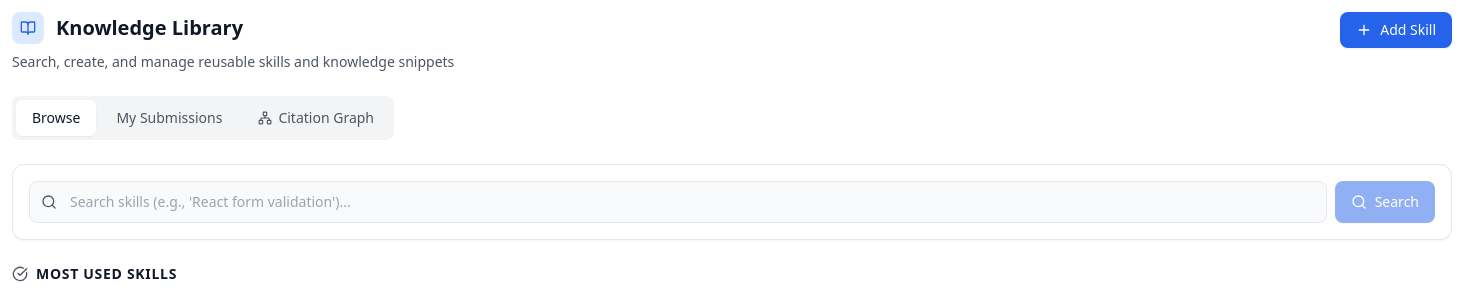
Scenario: 12.6.3 — Skill RAG search works › switches to My Submissions tab
The width and height of the screenshot is (1464, 299).
Click the button "My Submissions" at (169, 118), box left=100, top=100, right=238, bottom=136
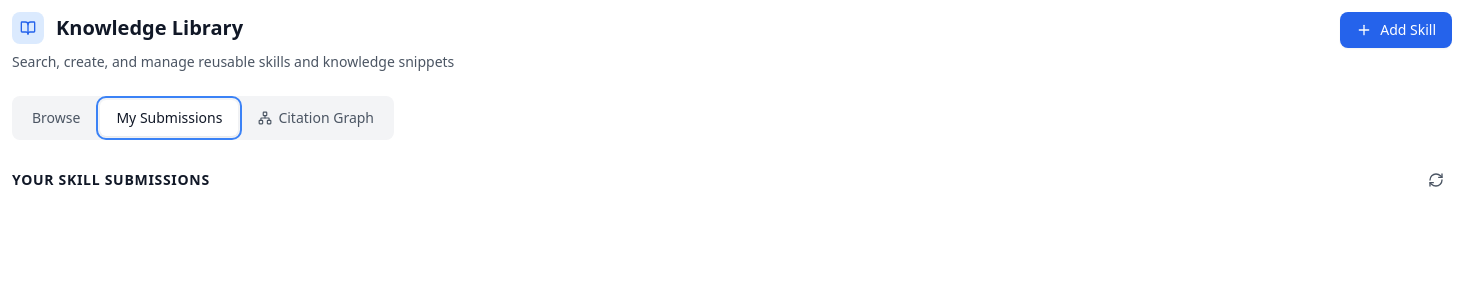
Now the heading "Your Skill Submissions" is shown, box left=12, top=170, right=210, bottom=190
